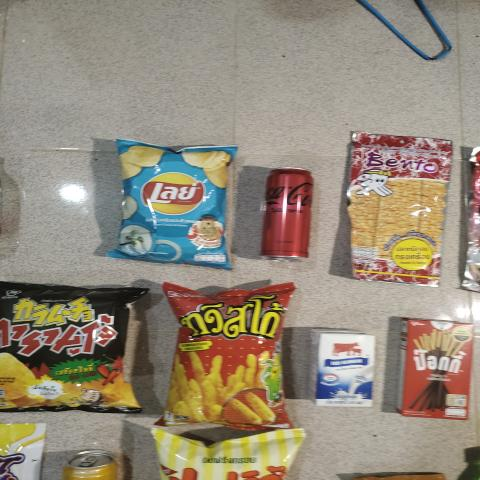bento_red: (344, 132, 445, 280)
coke_red: (258, 167, 316, 256)
karamujo: (0, 289, 133, 407)
lay_blue: (121, 150, 223, 260)
pokki: (400, 318, 473, 418)
thai_denmark: (313, 326, 379, 410)
twisco: (170, 288, 280, 415)
